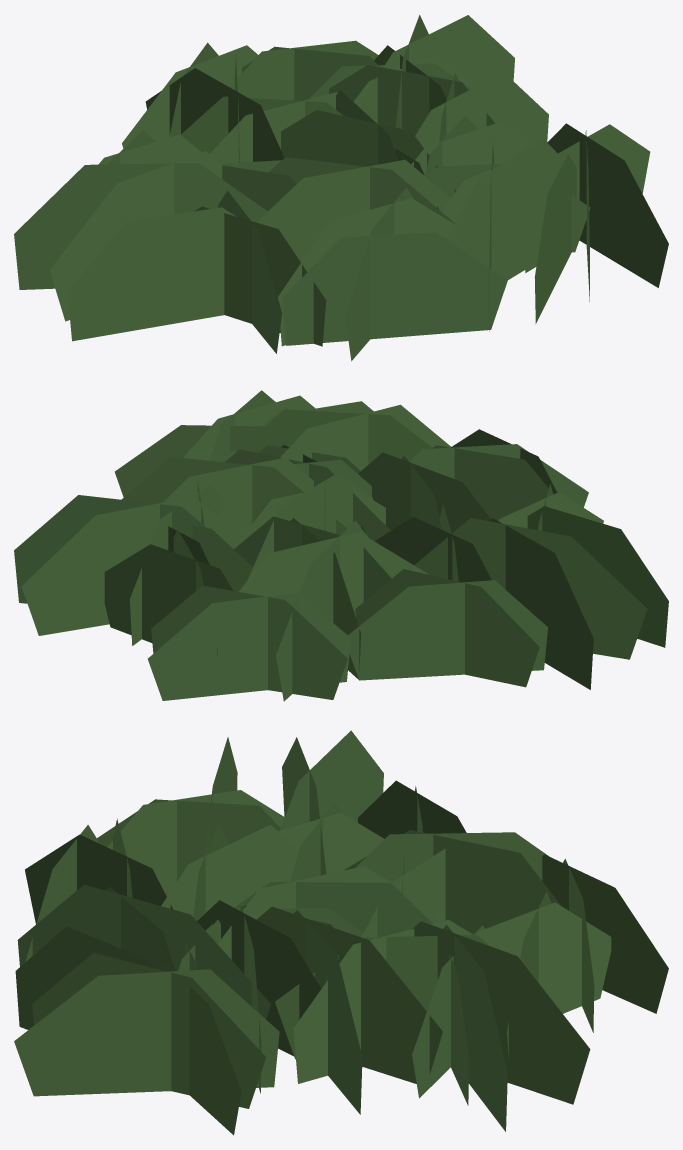
The model's file is Grass_Dynamic.fbx.
The picture shows the model from 3 angles, top to bottom: view 1: azimuth 30°, elevation 25°; view 2: azimuth 150°, elevation 25°; view 3: azimuth 270°, elevation 25°; orthographic projection. The views are drawn at different scales.
Visible parts, largest first — view 1: SM_Grass_Dynamic_01.mo; view 2: SM_Grass_Dynamic_01.mo; view 3: SM_Grass_Dynamic_01.mo.
Part boxes in pixels (<box>): SM_Grass_Dynamic_01.mo: <box>14,15,668,361</box>; SM_Grass_Dynamic_01.mo: <box>14,390,668,701</box>; SM_Grass_Dynamic_01.mo: <box>14,730,668,1135</box>.
Size of the model in its own units: 254 by 50.94 by 224.
